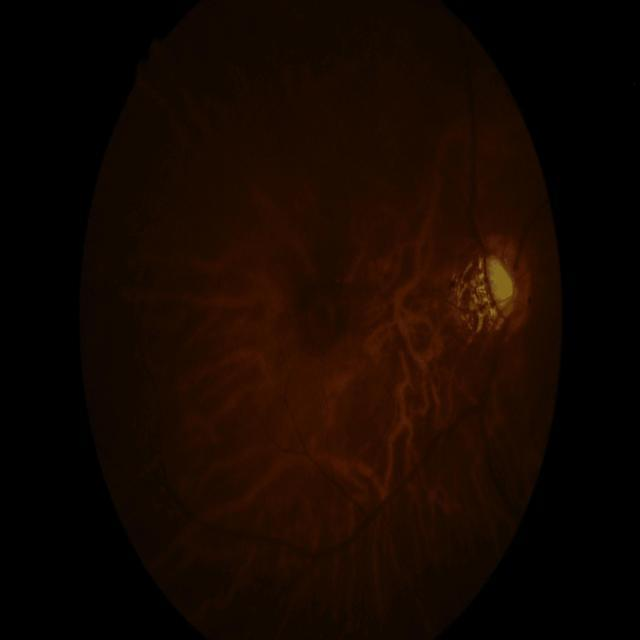cup: (488, 256, 513, 311)
disk: (483, 238, 529, 326)
